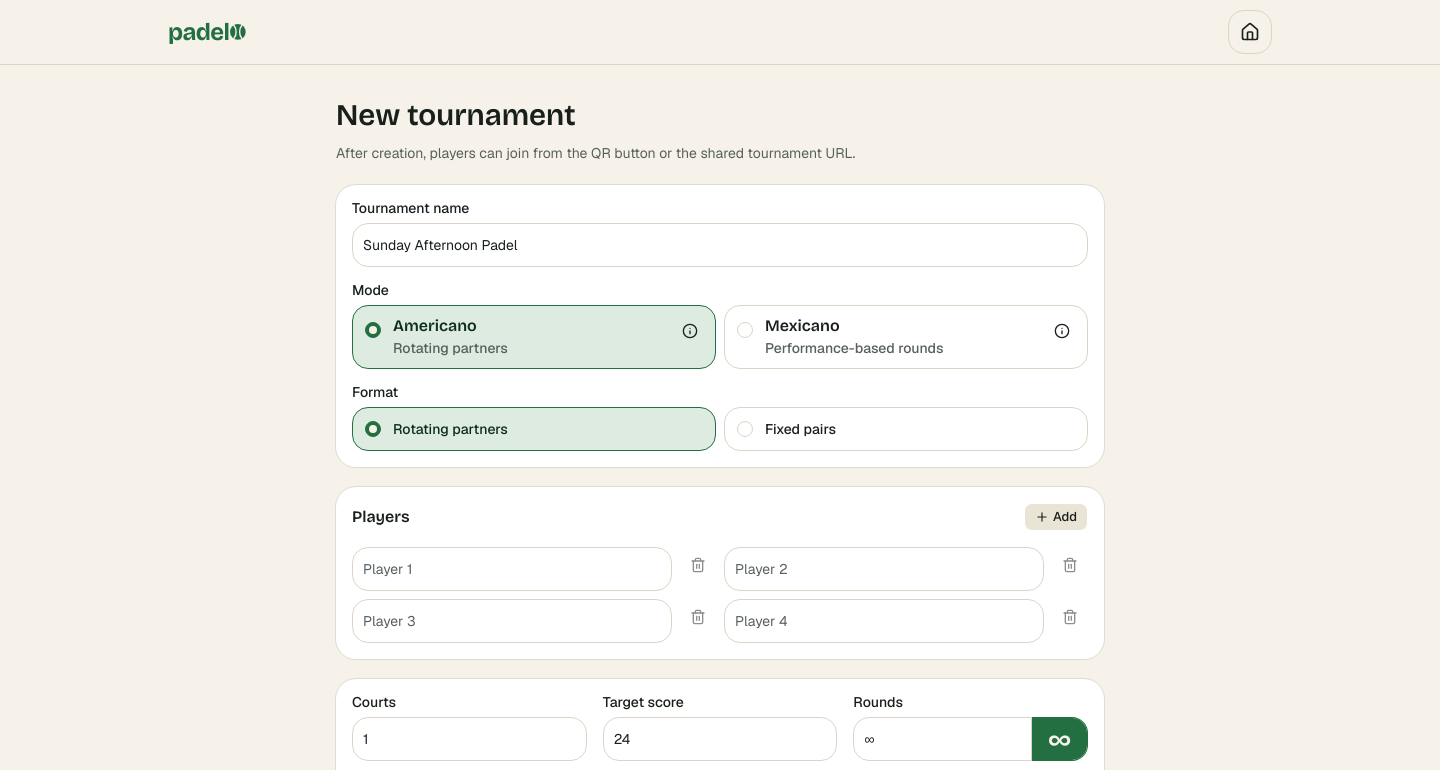
NewTournamentPage › pads an odd rotating roster with an empty partner when switching format
The width and height of the screenshot is (1440, 770).
Click the button "Add": click(1056, 517) [1024,503,1088,531]
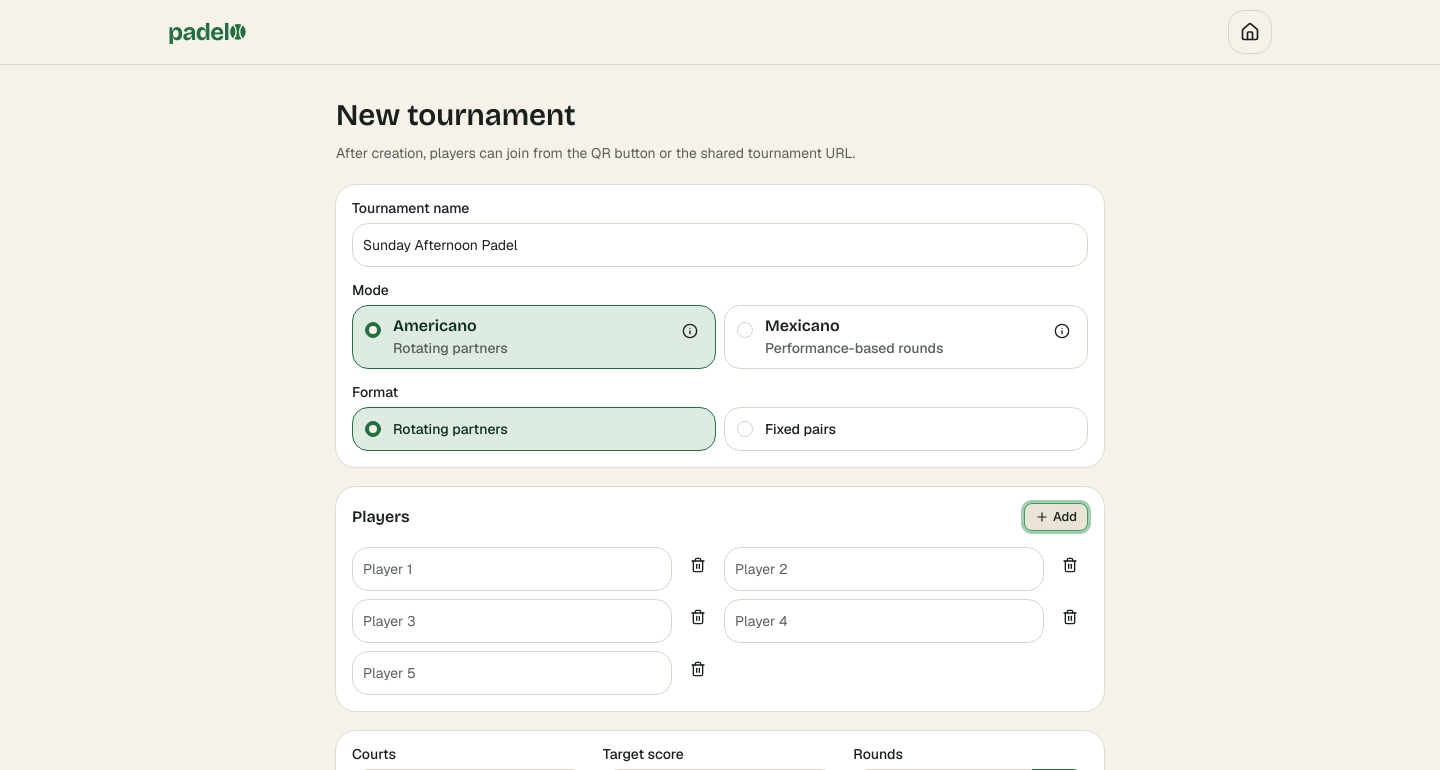
In the field with placeholder "Player 5": (512, 673) [352,651,672,695], type "Eli"
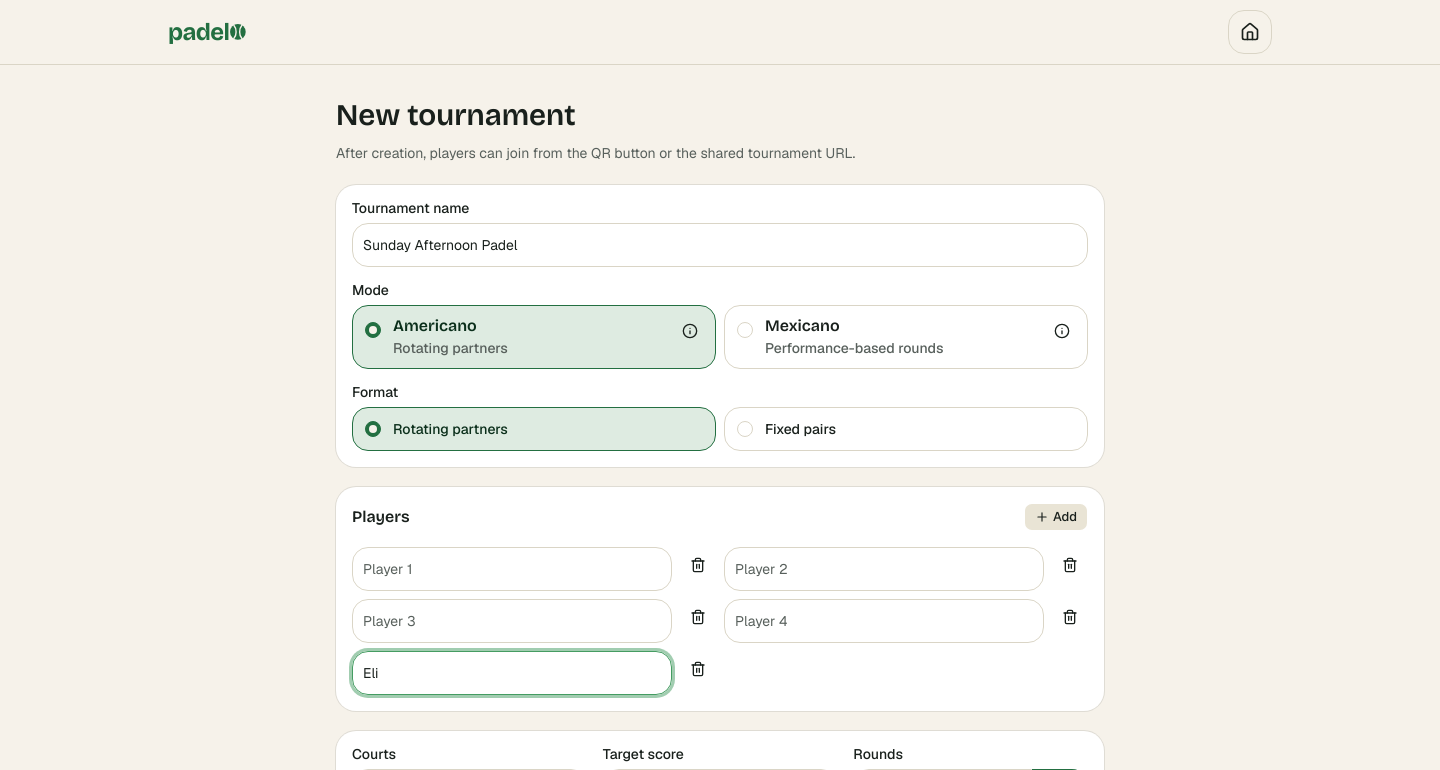
Click the radio button named "Fixed pairs" next to "Fixed pairs": click(745, 429) [737,421,753,437]
(page scrolled)
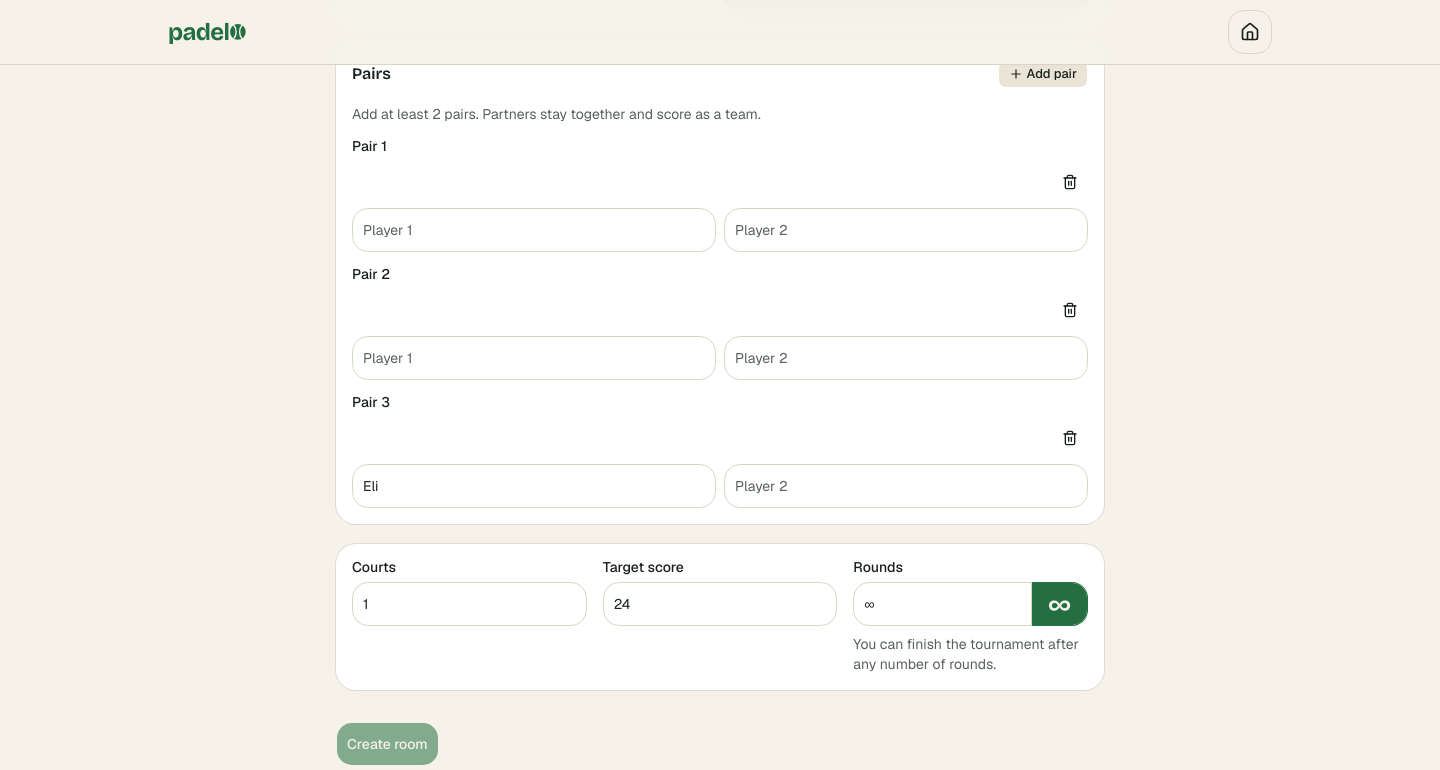
Check: the field named "Pair 3, player 2" is empty, box [724,464,1088,508]
Check: the field named "Pair 3, player 1" holds "Eli", box [352,464,716,508]
